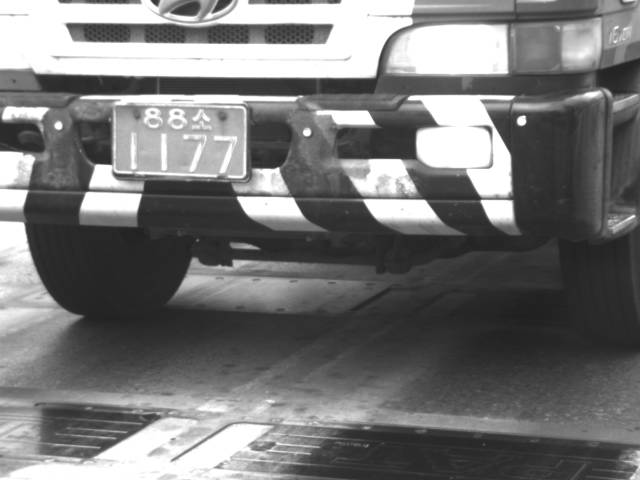car: (1, 1, 639, 352)
plate: (109, 99, 252, 181)
